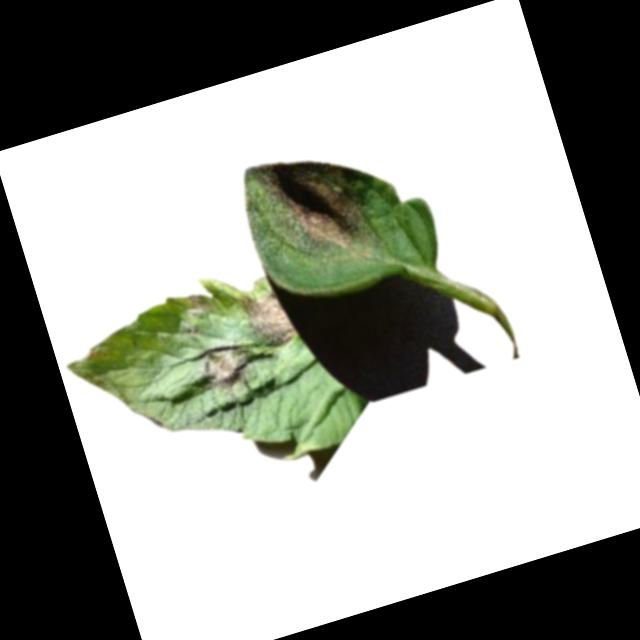Late_blight: (252, 139, 372, 270), (238, 284, 300, 357), (196, 334, 262, 397), (181, 288, 215, 325), (83, 340, 109, 362)
